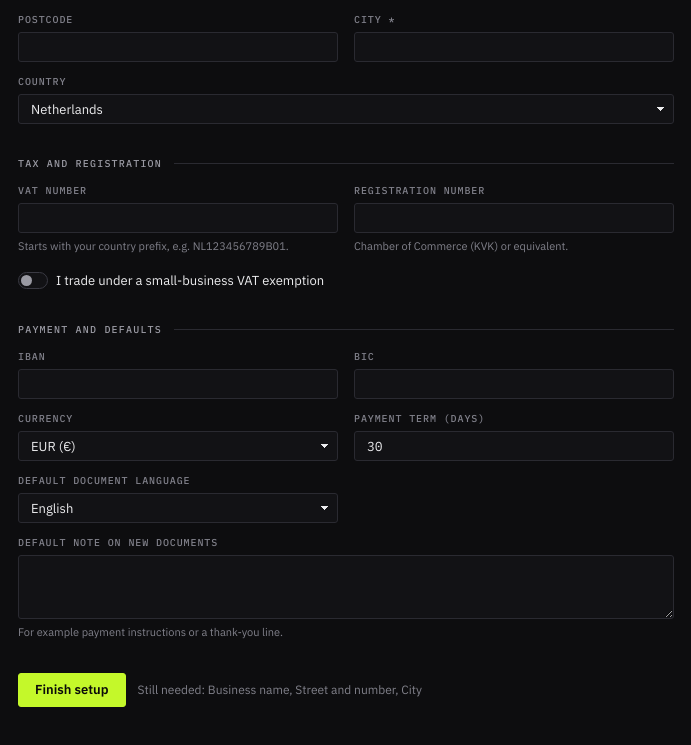
Test: setup › warns about an IBAN with a typo
This screenshot has width=691, height=745.
(page scrolled)
Step 1. Type "NL91ABNA0417164301" into the field labelled "IBAN" → (178, 384), box [18,369,338,399]
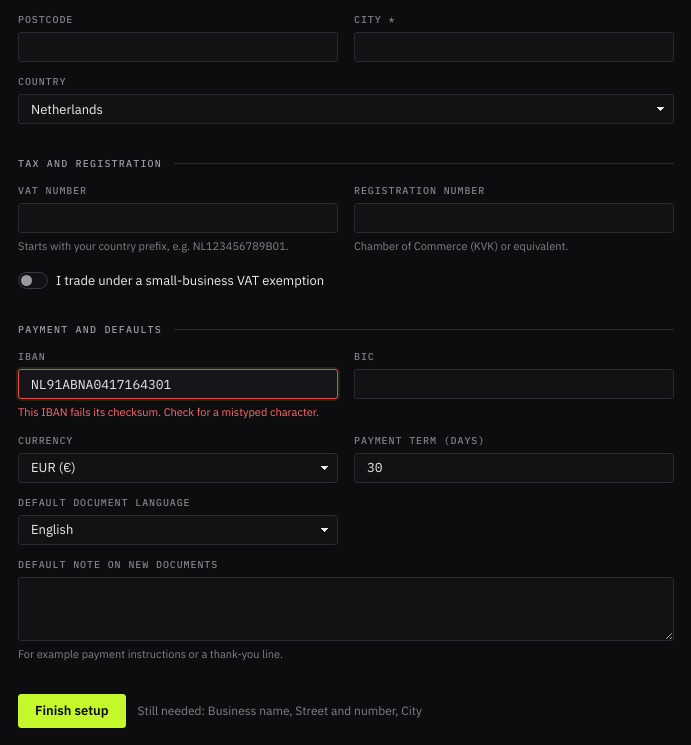
Expected: the text "fails its checksum" is shown, [18,405,319,419]
